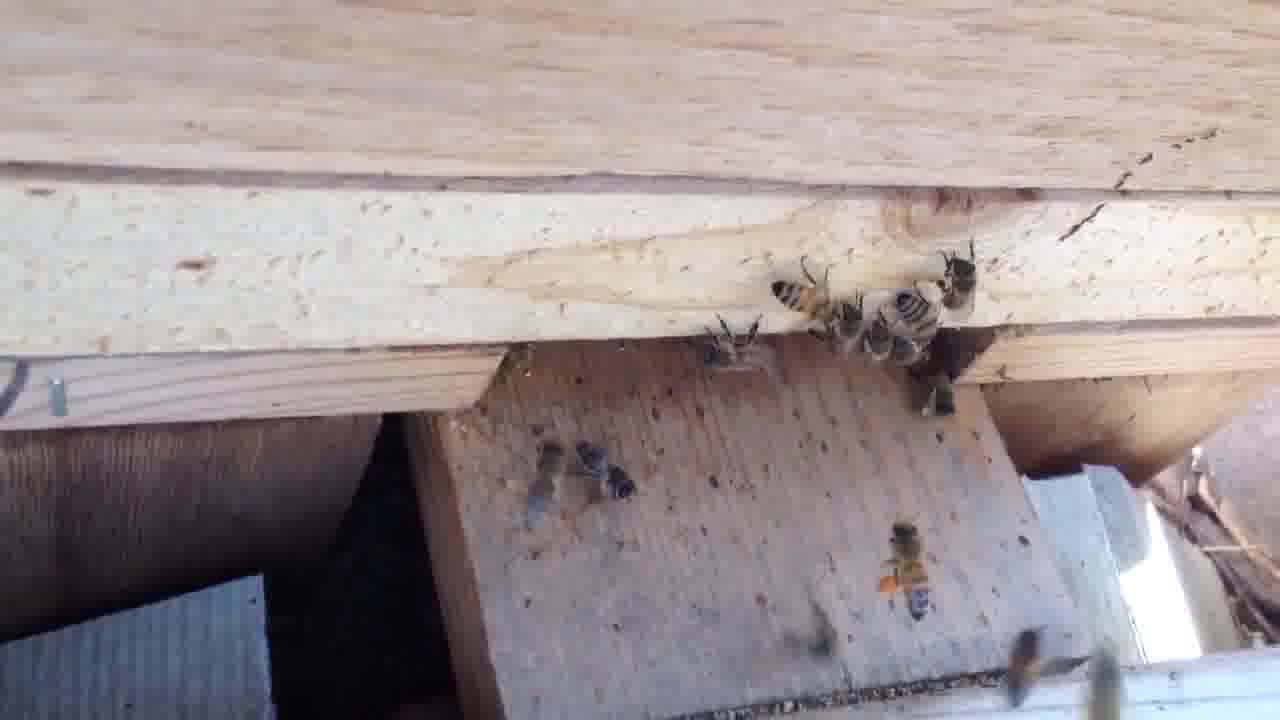pollen: (874, 512, 943, 625)
